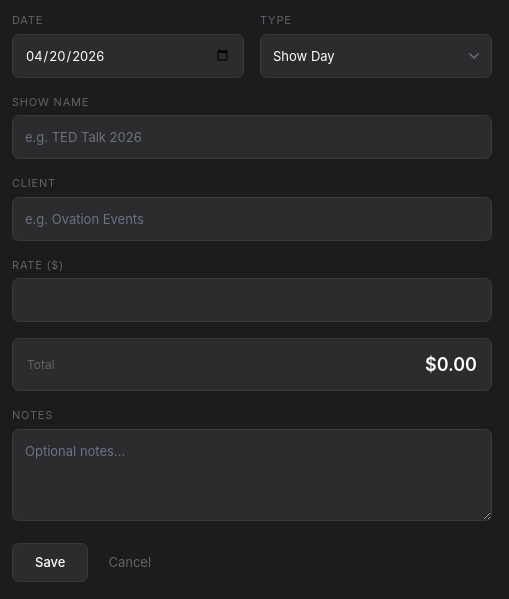
Test: auto-calculates amount for hourly (hours × rate)
Select "Hourly" in the dropdown labelled "Type" at (376, 56), box top-left (260, 34), bottom-right (492, 78)
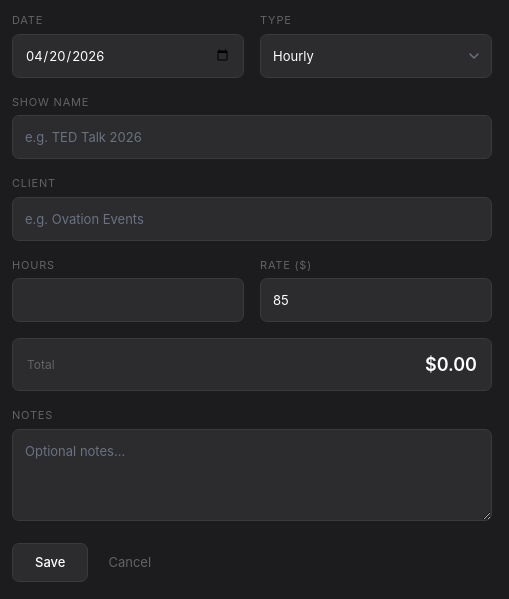
Type "4" into the number field labelled "Hours" at (128, 300), box top-left (12, 278), bottom-right (244, 322)
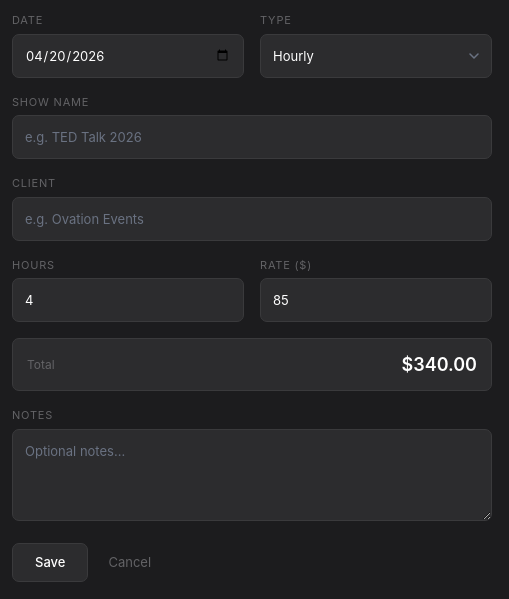
Result: the text "$340.00" is shown at top-left (402, 351), bottom-right (477, 378)
